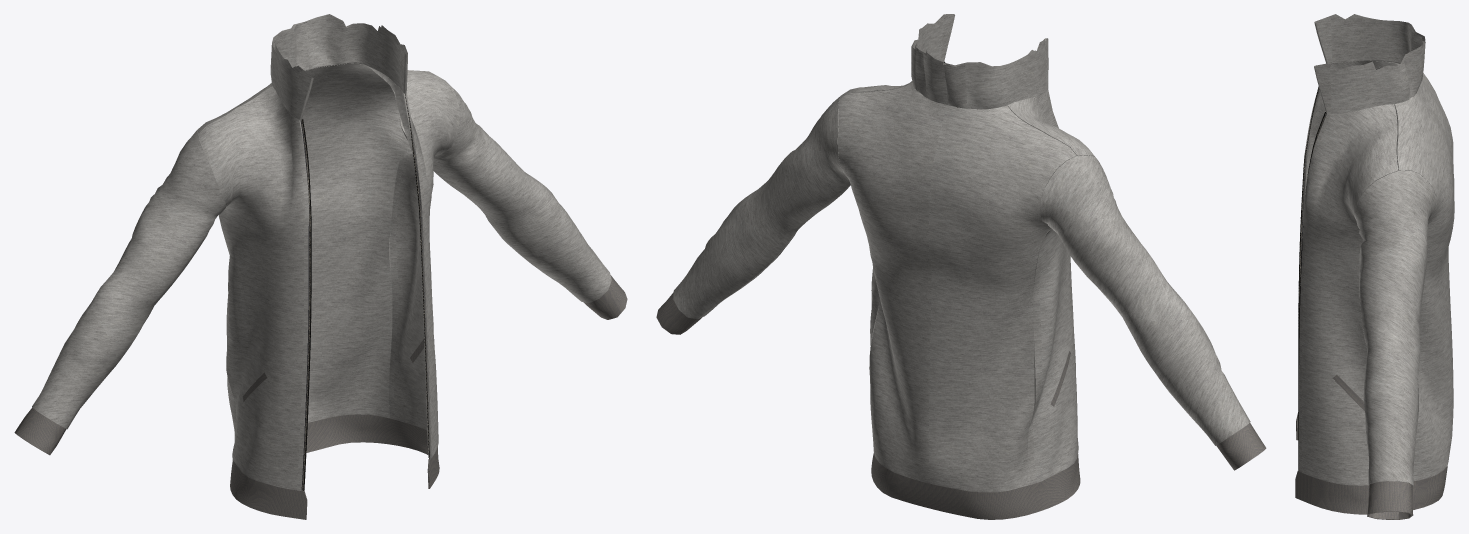
The model's file is hoodie.glb.
3 views of the same model, side by side, from view 1: azimuth 30°, elevation 25°; view 2: azimuth 150°, elevation 25°; view 3: azimuth 270°, elevation 25° (orthographic).
Visible parts, largest first — view 1: hoodie; view 2: hoodie; view 3: hoodie.
Part boxes in pixels (left/top/right/bottom): hoodie: left=14, top=14, right=627, bottom=519; hoodie: left=656, top=14, right=1266, bottom=519; hoodie: left=1295, top=14, right=1454, bottom=519.
Bounding box in the file's own units: 0.9663 × 0.6812 × 0.2244.
Materials: 3 (3 with a texture image).
